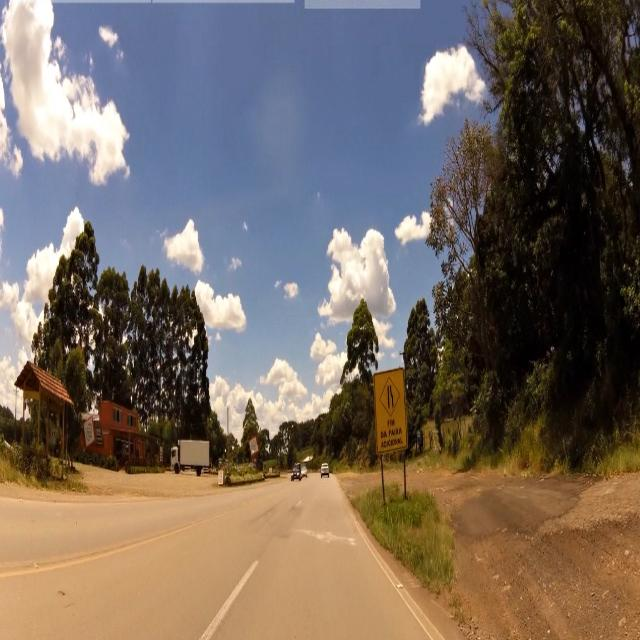A-21c: (378, 376, 402, 416)
